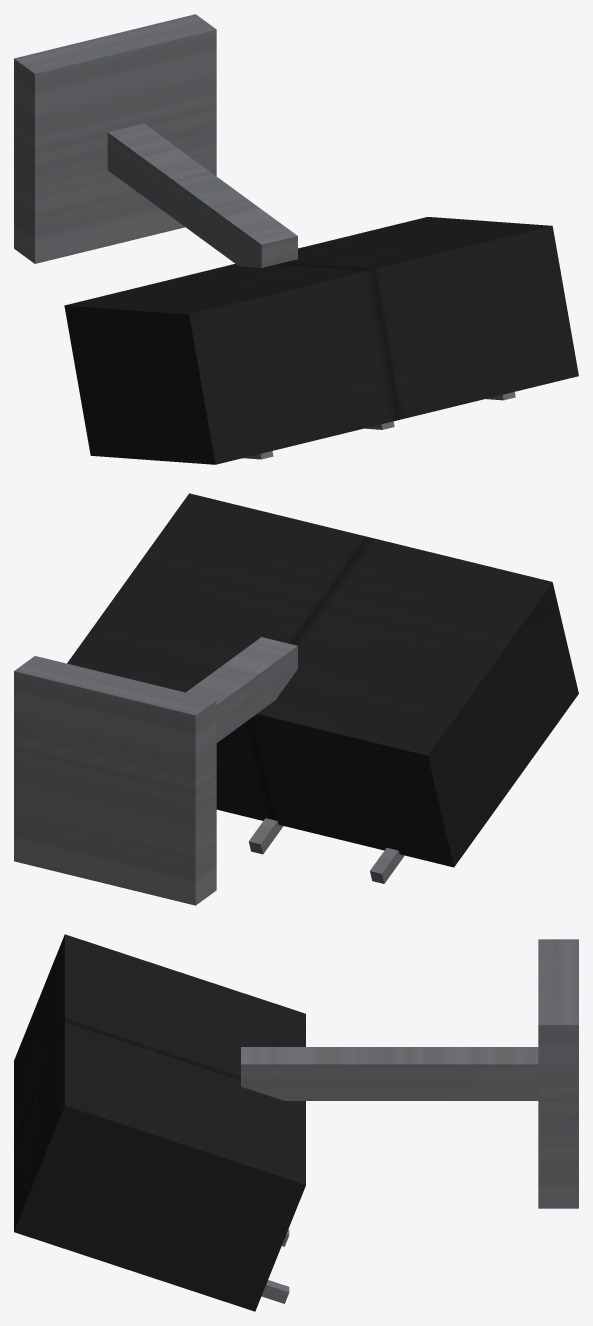
The model's file is SM_INFD_BayLamp.fbx.
3 renders of one model, top to bottom at view 1: azimuth 30°, elevation 25°; view 2: azimuth 150°, elevation 25°; view 3: azimuth 270°, elevation 25°, orthographic. The views are drawn at different scales.
Parts seen in each view (by area): view 1: SM_INFD_BayLamp; view 2: SM_INFD_BayLamp; view 3: SM_INFD_BayLamp.
Part boxes in pixels (<box>): SM_INFD_BayLamp: <box>14,14,578,464</box>; SM_INFD_BayLamp: <box>14,493,578,905</box>; SM_INFD_BayLamp: <box>14,934,578,1311</box>.
Bounding box in the file's own units: 0.6 × 0.4278 × 0.8362.
